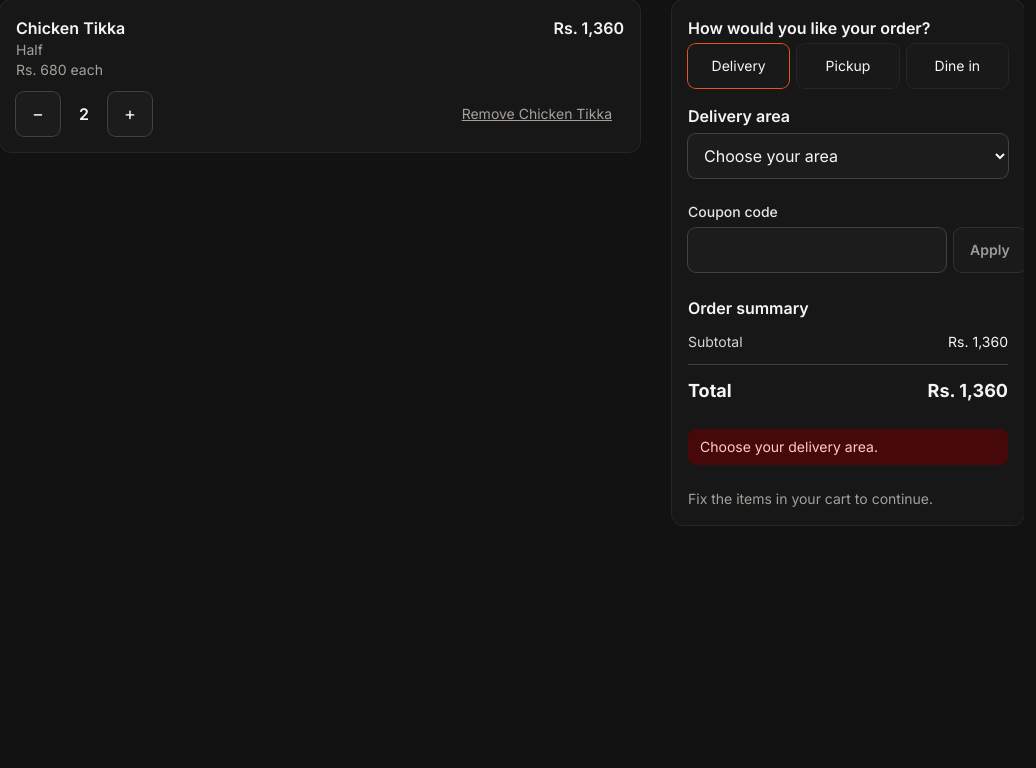
Test: order type and delivery area › asks for an area when delivering, then adds the delivery fee
The width and height of the screenshot is (1036, 768).
Expected: the text "Choose your delivery area." is shown, [688,429,1008,465]
Select "Johar Town (Rs. 100)" in the dropdown labelled "Delivery area" at (848, 156), box [688,134,1008,178]
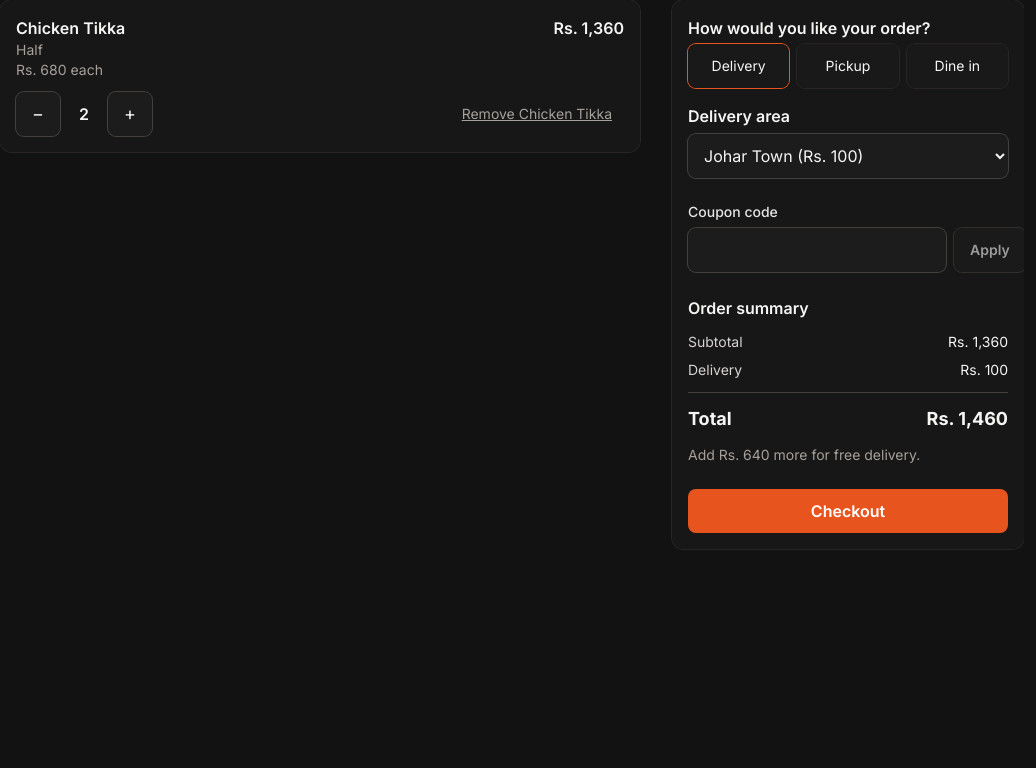
Now the text "Rs. 1,460" is shown, box [927,405,1008,433]
Now the text "Choose your delivery area." is gone
Now the text "Delivery" is shown, box [688,360,742,380]
